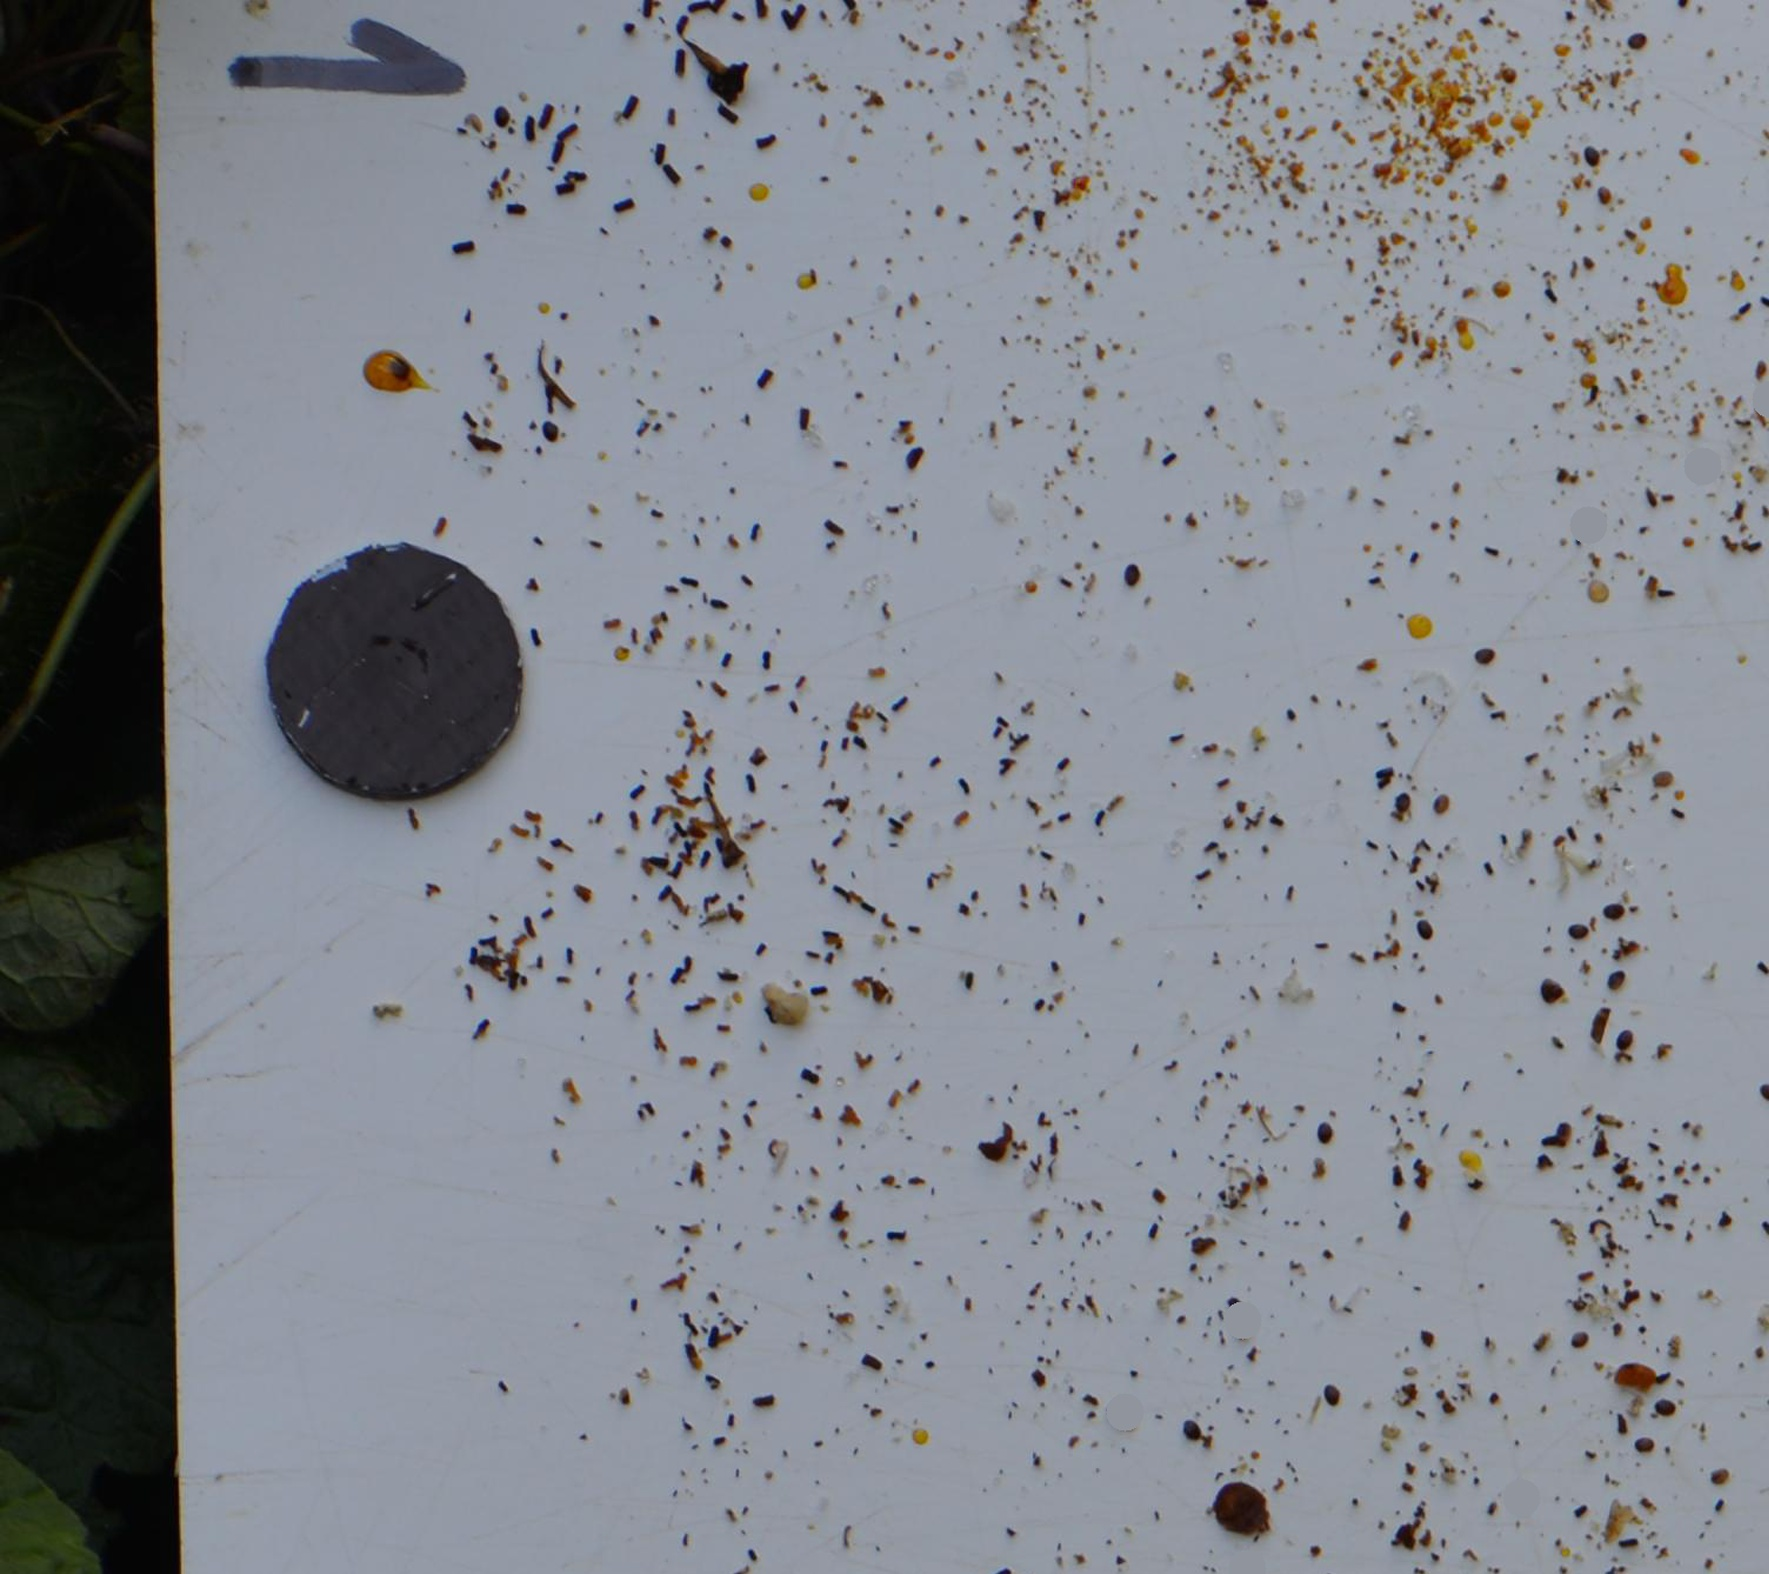Varroa: (1299, 1124, 1328, 1155), (541, 413, 567, 444), (1631, 1436, 1658, 1463), (491, 103, 517, 132), (1616, 1027, 1641, 1054), (1579, 138, 1605, 166), (1653, 1395, 1678, 1424), (1181, 1418, 1207, 1443), (1571, 1325, 1596, 1352), (1415, 915, 1439, 942), (1606, 966, 1631, 994), (1319, 1373, 1343, 1399), (1710, 1462, 1734, 1487), (1473, 643, 1495, 670), (1603, 899, 1628, 924), (1319, 1120, 1343, 1144), (1652, 770, 1676, 795), (1435, 792, 1457, 817), (1565, 921, 1590, 943), (1628, 30, 1650, 55), (1385, 792, 1409, 814), (1123, 567, 1146, 589)
